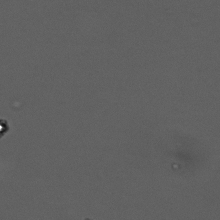Living Cell: (1, 120, 9, 138)
